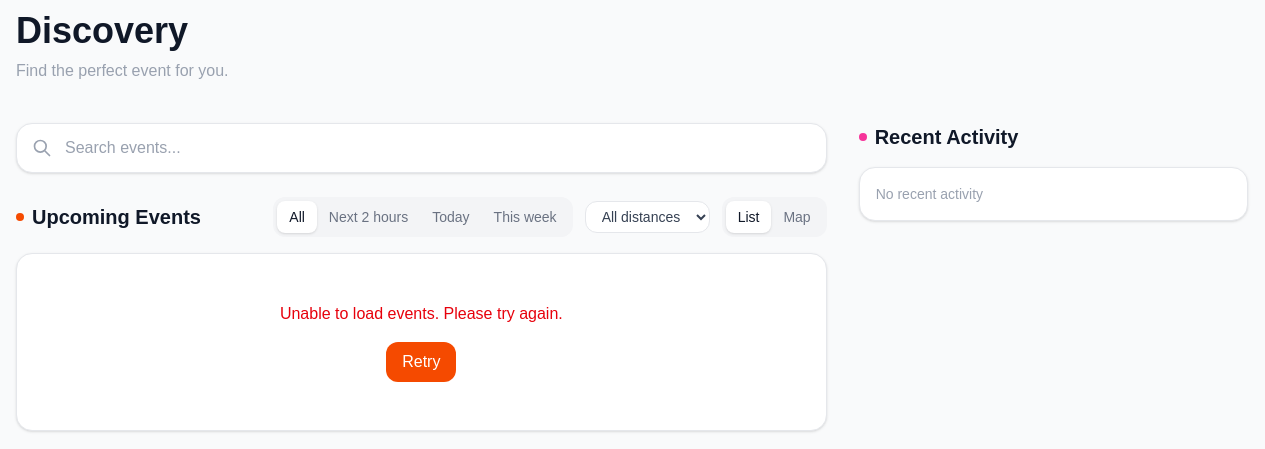
Scenario: NFR-14: Event API Integration › test_NFR14_events_api_integration: error state shows correct message and retry
Expected: the text "Unable to load events. Please try again." is shown, [280,305,563,322]
Click the button "Retry".
click(421, 362)  # box [386,342,456,382]
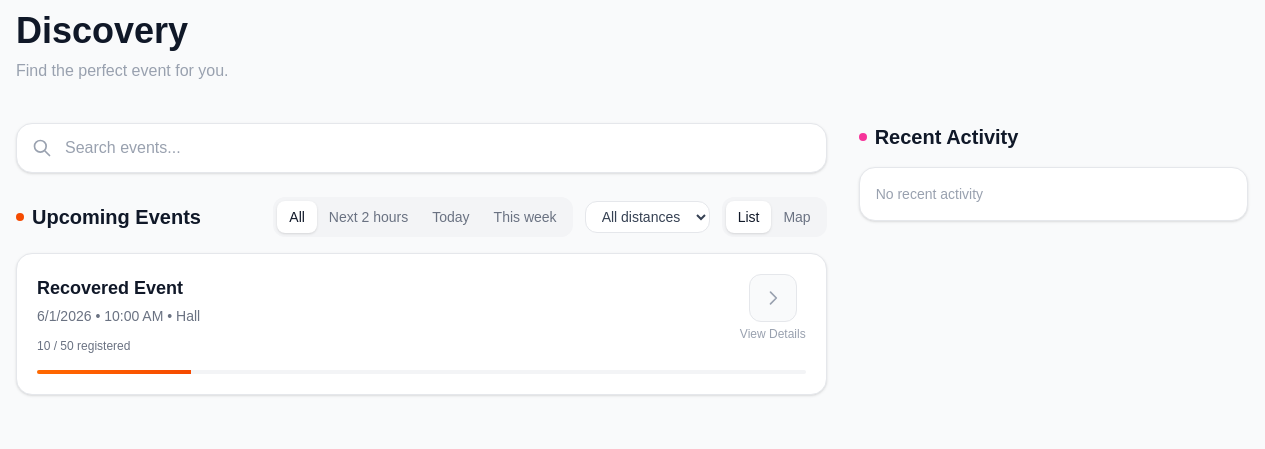
Now the heading "Recovered Event" is shown, box [37,274,200,302]
